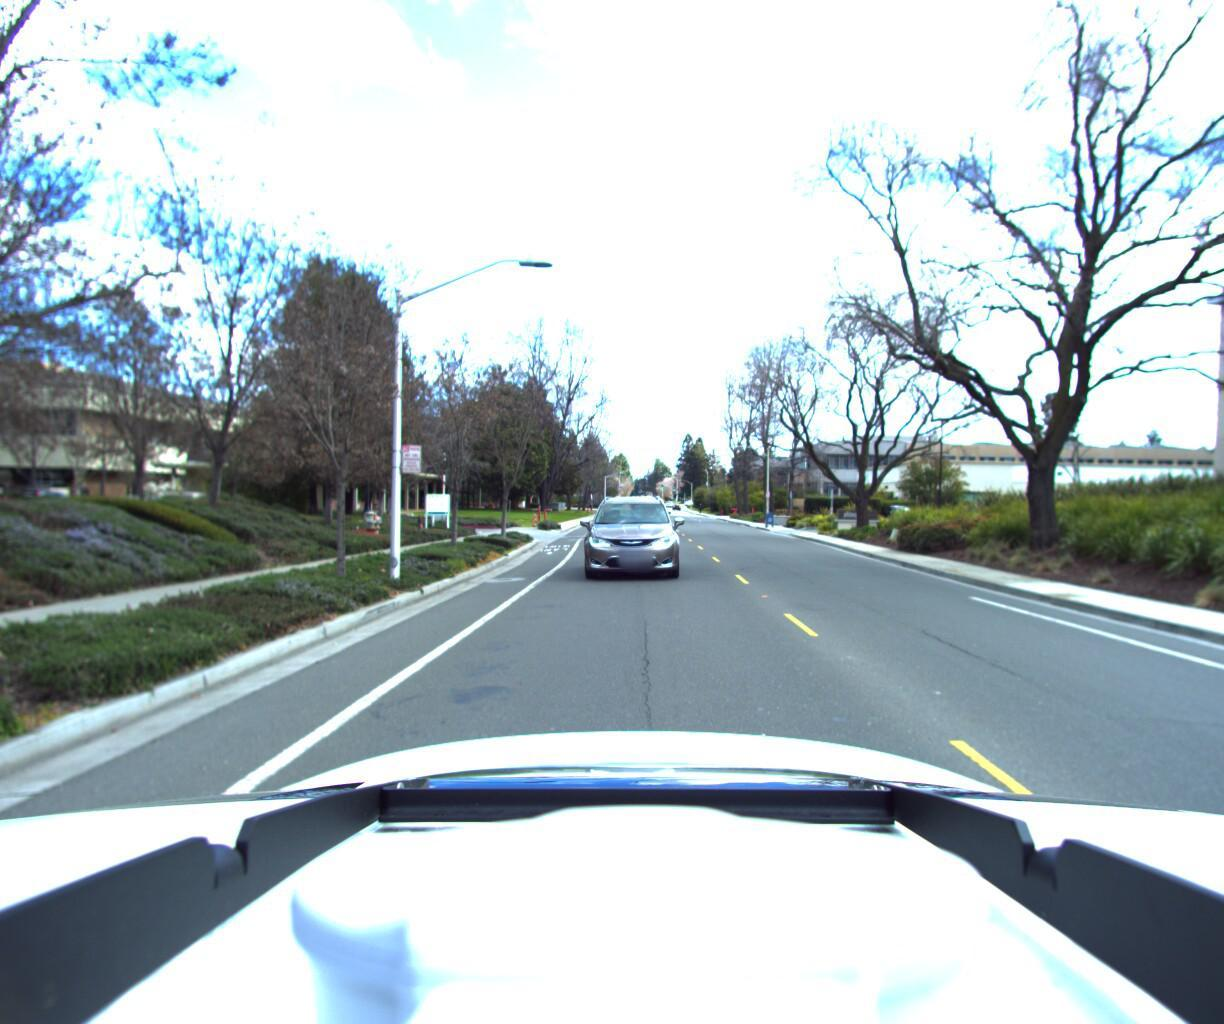car: (576, 496, 681, 593)
